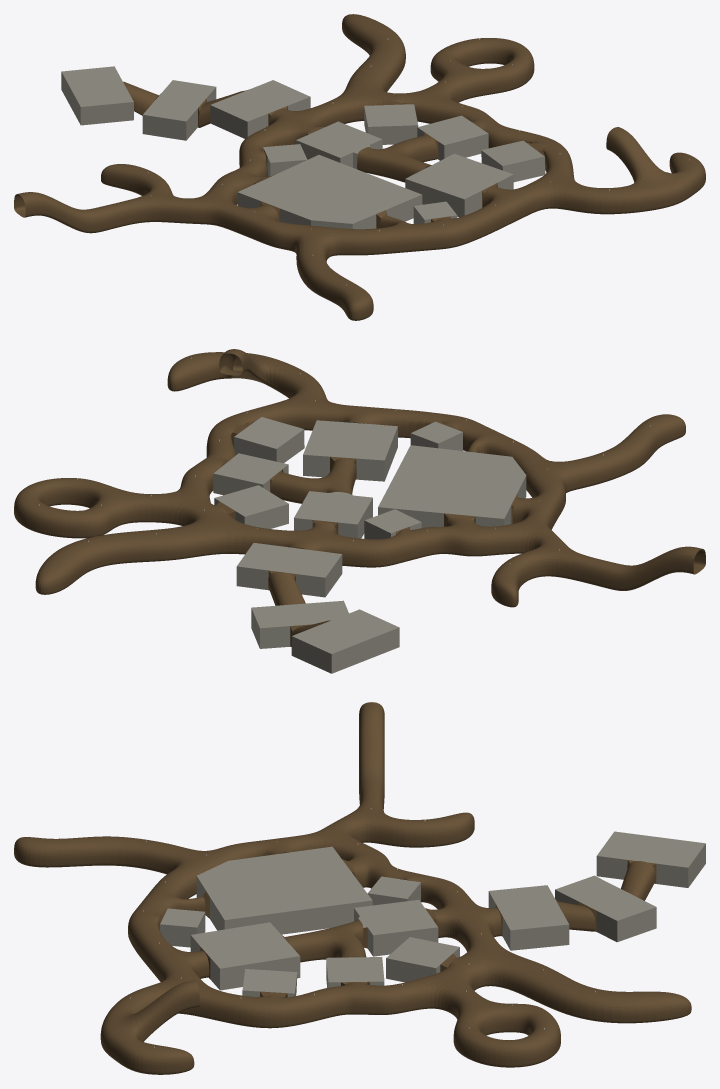
File: Bunker.fbx
3 renders of one model, top to bottom at view 1: azimuth 30°, elevation 25°; view 2: azimuth 150°, elevation 25°; view 3: azimuth 270°, elevation 25°, orthographic. The views are drawn at different scales.
Visible parts, largest first — view 1: path; view 2: path; view 3: path.
Boxes of the visible parts, x1,y1,x2,y2 form: path: (14,14,705,320); path: (14,349,705,673); path: (14,702,705,1074).
Size of the model in its own units: 2208 by 247 by 2041.
